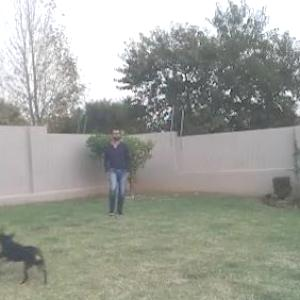follow: (102, 121, 131, 220)
